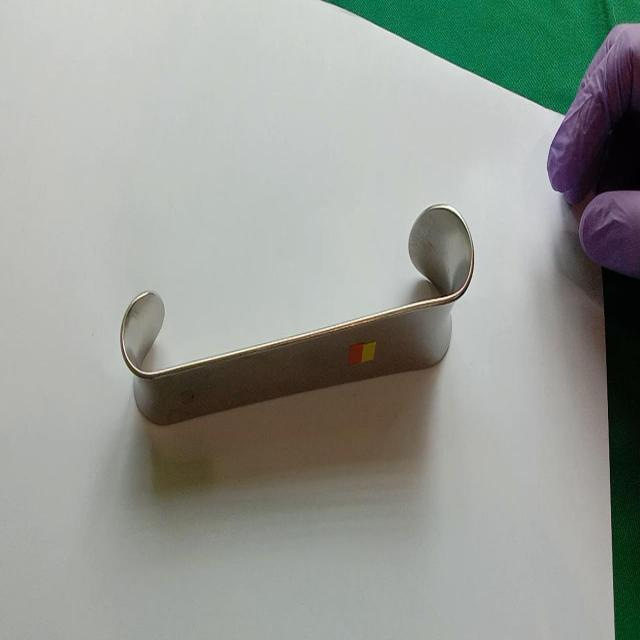CheekRetractor: (119, 191, 478, 431)
